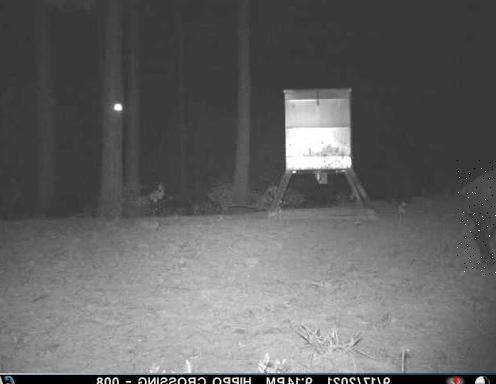Hog: (457, 160, 496, 276)
